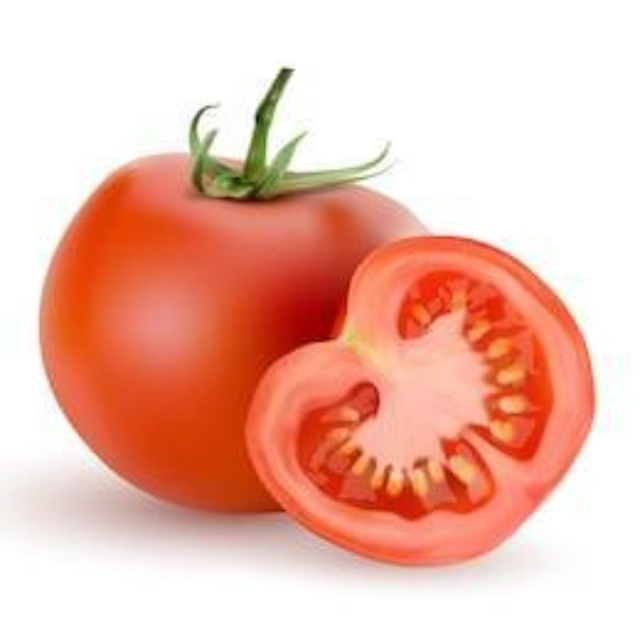tomato: (37, 153, 429, 510), (257, 235, 599, 578)
